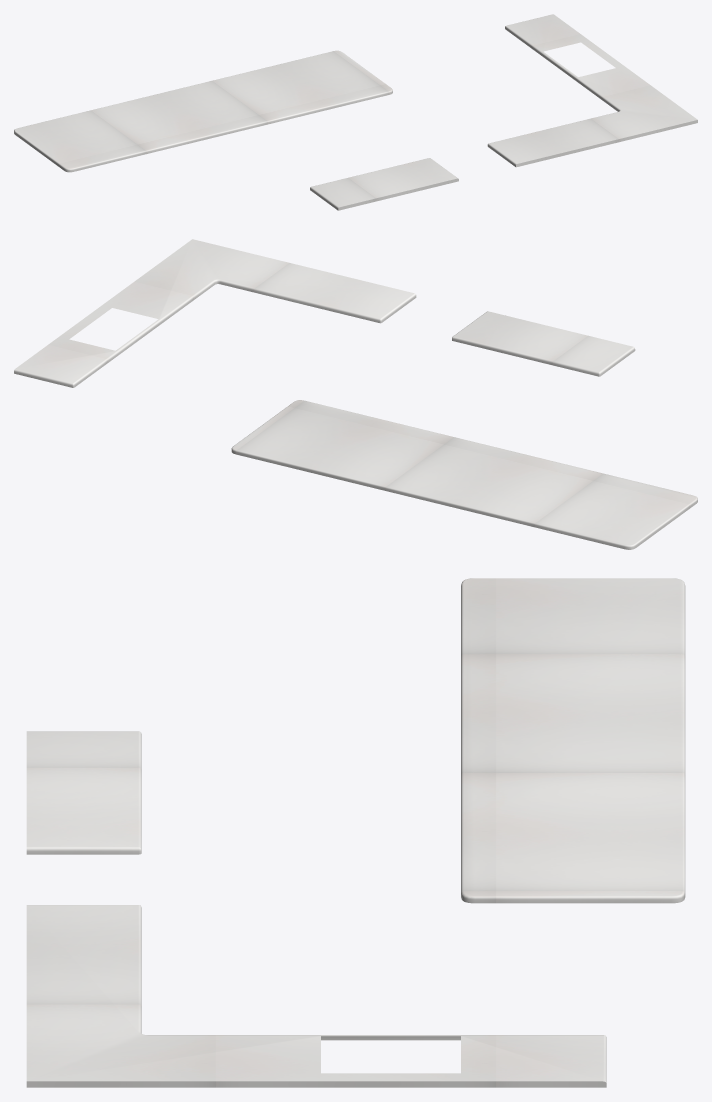
Rendered from Countertops_QuartzArcticWhite.glb.
The picture shows the model from 3 angles, top to bottom: view 1: azimuth 30°, elevation 25°; view 2: azimuth 150°, elevation 25°; view 3: azimuth 270°, elevation 25°; orthographic projection. The views are drawn at different scales.
Parts seen in each view (by area): view 1: Countertops_Quartz Arctic White; view 2: Countertops_Quartz Arctic White; view 3: Countertops_Quartz Arctic White.
Part boxes in pixels (left/top/right/bottom): Countertops_Quartz Arctic White: left=14, top=14, right=697, bottom=210; Countertops_Quartz Arctic White: left=14, top=239, right=697, bottom=549; Countertops_Quartz Arctic White: left=26, top=578, right=685, bottom=1087.
Bounding box in the file's own units: 8.6 × 0.09 × 4.7.
1 material, 1 textured.
